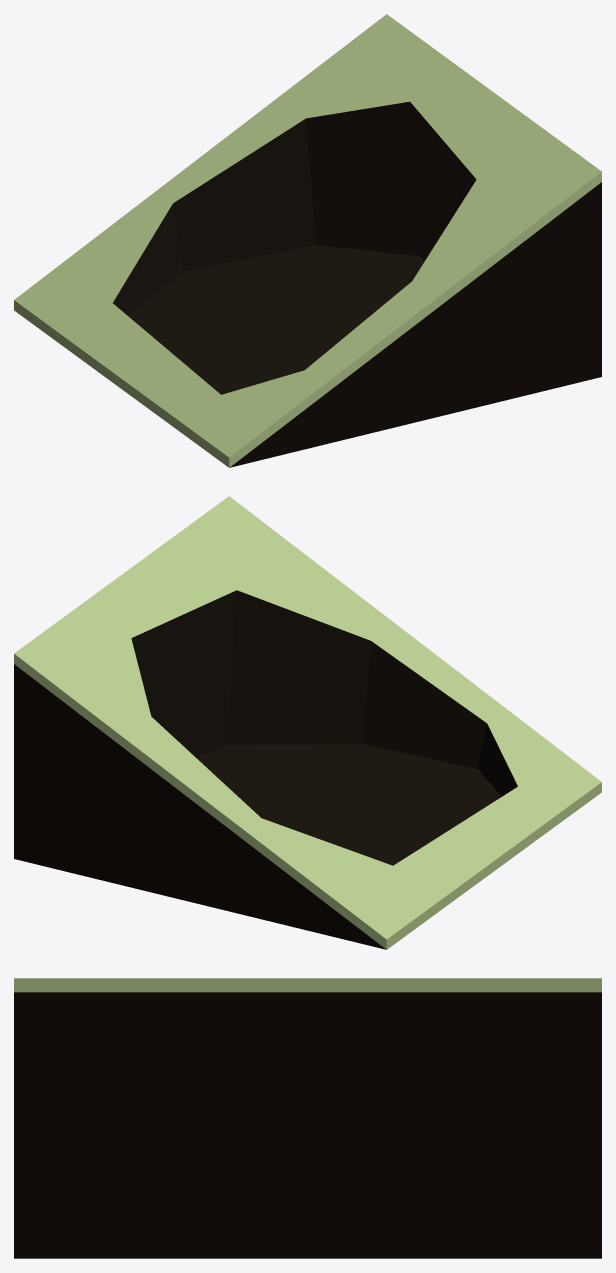
File: hole.obj
3 views of the same model, one above another, from view 1: azimuth 30°, elevation 25°; view 2: azimuth 150°, elevation 25°; view 3: azimuth 270°, elevation 25° (orthographic). The views are drawn at different scales.
Visible parts, largest first — view 1: hole_Cube.005; view 2: hole_Cube.005; view 3: hole_Cube.005.
Part boxes in pixels (bbox=[...]): hole_Cube.005: bbox=[14, 14, 601, 467]; hole_Cube.005: bbox=[14, 496, 601, 949]; hole_Cube.005: bbox=[14, 978, 601, 1258].
Size of the model in its own units: 2 by 1.05 by 2.
